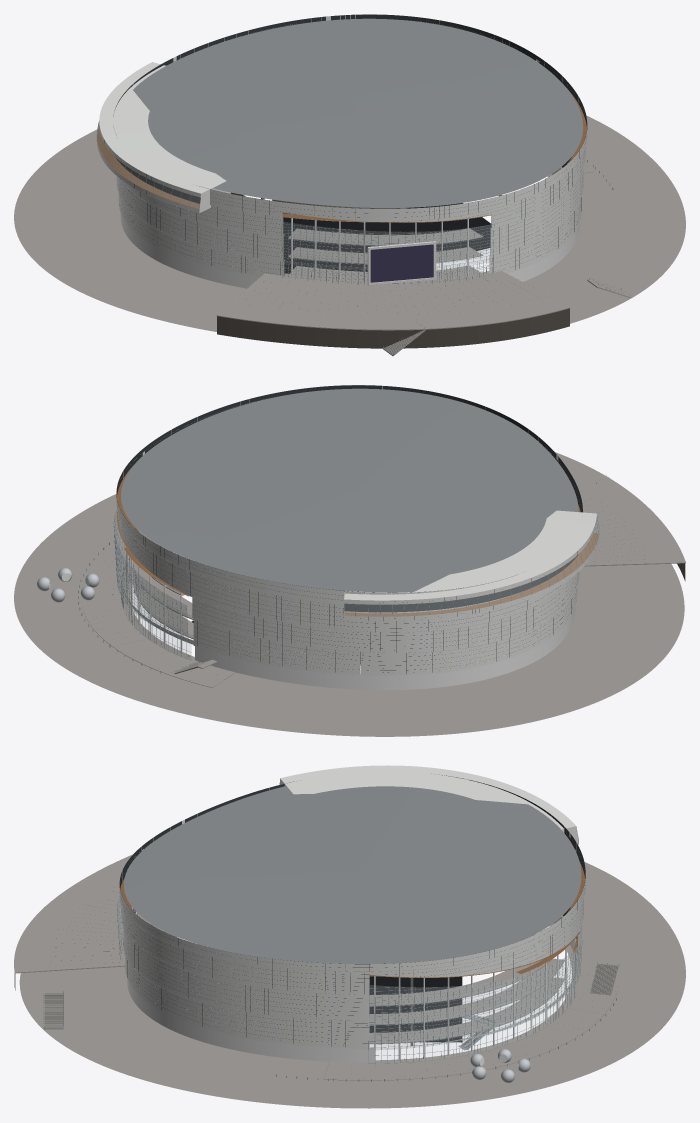
The model's file is exterior.glb.
The picture shows the model from 3 angles, top to bottom: view 1: azimuth 30°, elevation 25°; view 2: azimuth 150°, elevation 25°; view 3: azimuth 270°, elevation 25°; orthographic projection. The views are drawn at different scales.
Visible parts, largest first — view 1: Chase_Center_CP80_Cutaway; view 2: Chase_Center_CP80_Cutaway; view 3: Chase_Center_CP80_Cutaway.
Part boxes in pixels (x1,y1,x2,y2): Chase_Center_CP80_Cutaway: (14, 14, 685, 356); Chase_Center_CP80_Cutaway: (14, 385, 685, 736); Chase_Center_CP80_Cutaway: (14, 765, 685, 1108).
Size of the model in its own units: 231 by 46.23 by 233.
19 materials, 2 textured.
